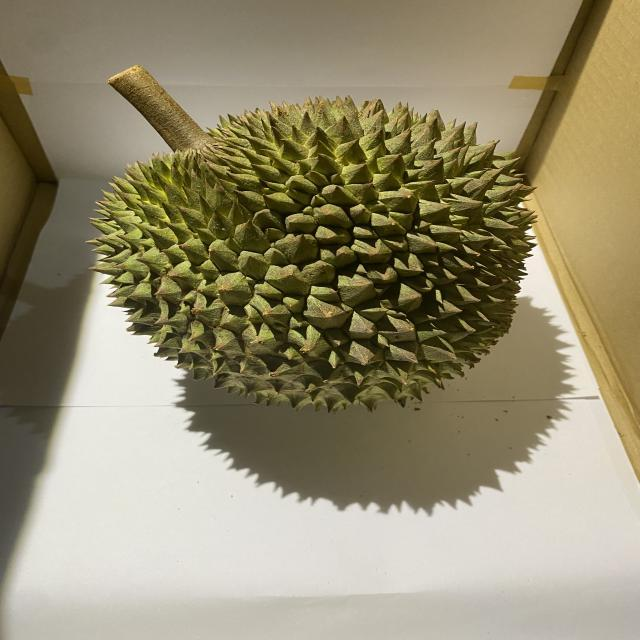immature: (82, 86, 544, 414)
